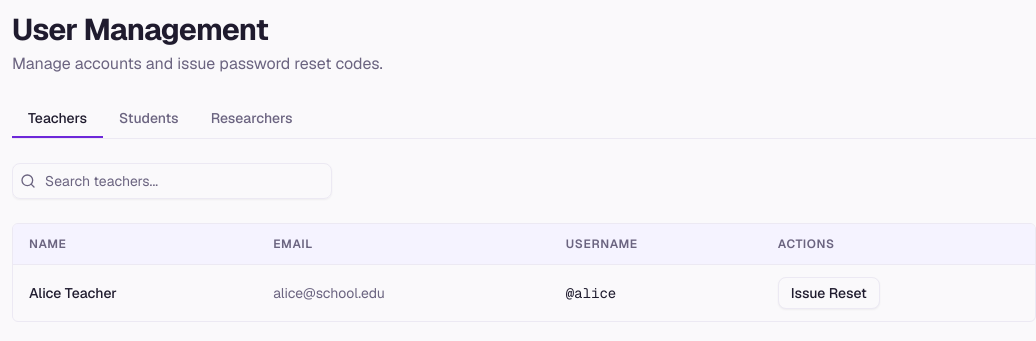
Test case: StaffManagementView › updates search placeholder based on active tab
Expected: the field with placeholder "Search teachers..." is shown, [12, 163, 332, 199]
Click the button "Students": (149, 119) [103, 100, 195, 138]
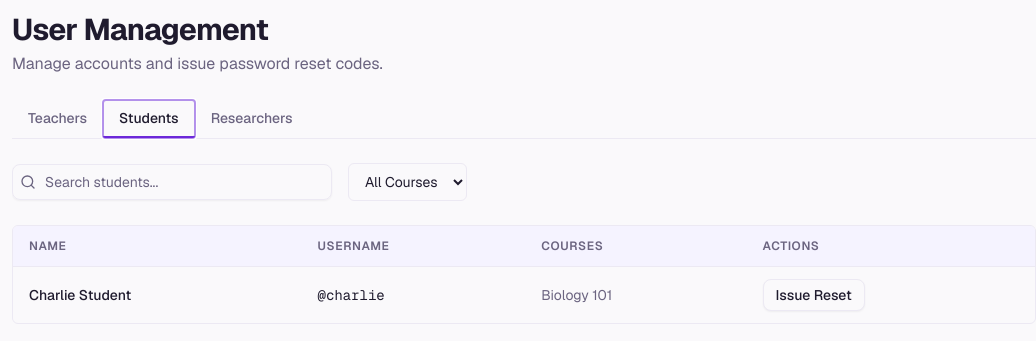
Expected: the field with placeholder "Search students..." is shown, [12, 164, 332, 200]
Click the button "Researchers": (252, 119) [195, 100, 308, 138]
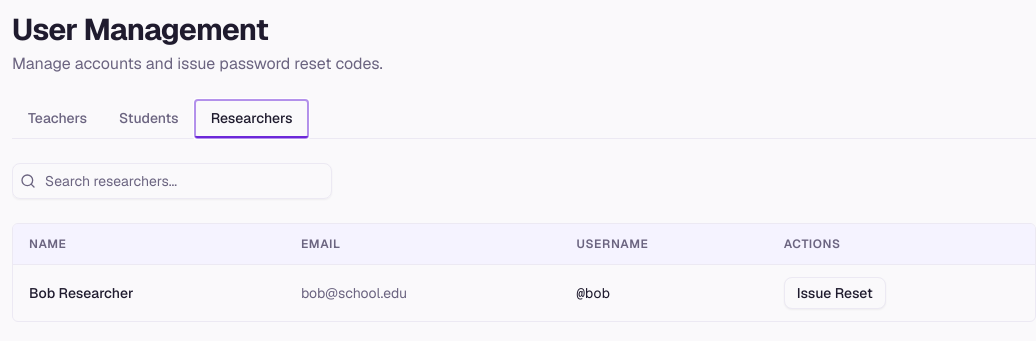
Expected: the field with placeholder "Search researchers..." is shown, [12, 163, 332, 199]
